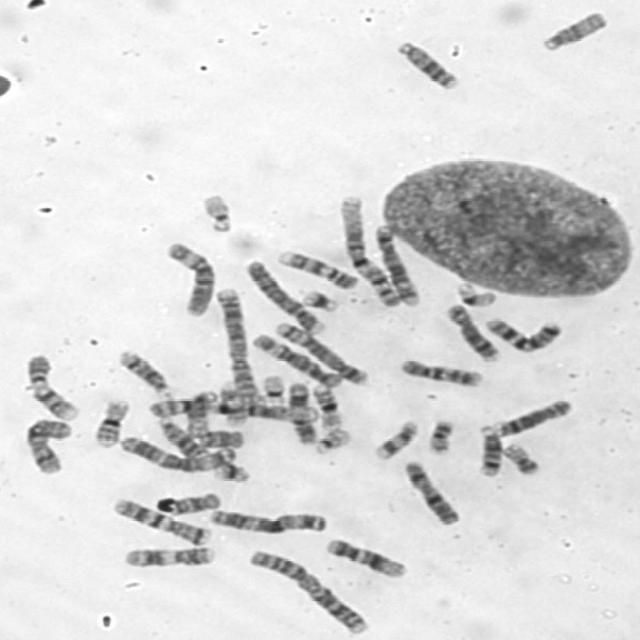A1: (336, 191, 404, 308), (147, 395, 322, 425)
A2: (244, 546, 373, 637), (211, 285, 259, 402)
A3: (115, 433, 238, 474), (204, 506, 328, 536)
B4: (243, 256, 326, 336)
B5: (270, 319, 371, 387), (370, 221, 420, 308)
C10: (396, 355, 486, 389)
C11: (119, 544, 216, 569), (285, 378, 319, 446)
C12: (321, 536, 408, 580)
C6: (248, 330, 345, 388), (161, 239, 217, 318)
C7: (109, 496, 212, 546), (481, 314, 564, 354)
C8: (442, 301, 500, 363), (491, 395, 574, 438)
C9: (24, 351, 80, 422), (274, 247, 360, 291)
D13: (392, 38, 461, 90), (154, 414, 208, 459)
D14: (115, 346, 172, 398), (475, 423, 503, 478)
D15: (537, 7, 608, 53), (182, 389, 220, 439)
E16: (90, 394, 133, 448), (310, 380, 344, 431)
E17: (370, 417, 422, 461), (216, 380, 251, 428)
E18: (152, 489, 224, 516), (193, 426, 246, 449)
F19: (453, 280, 499, 308), (259, 372, 287, 406)
F20: (501, 441, 542, 477), (424, 417, 456, 455)
G21: (299, 286, 340, 314), (210, 459, 252, 484)
G22: (198, 189, 235, 235), (310, 424, 352, 454)
X: (400, 458, 461, 526), (20, 416, 75, 476)
